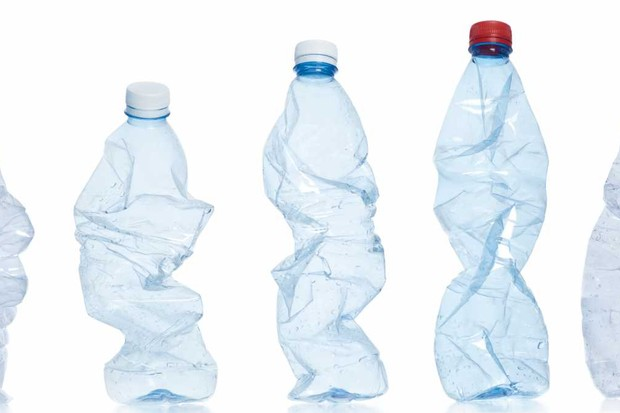plastic_bottle: (255, 35, 397, 406), (68, 76, 224, 406), (431, 16, 556, 401)
